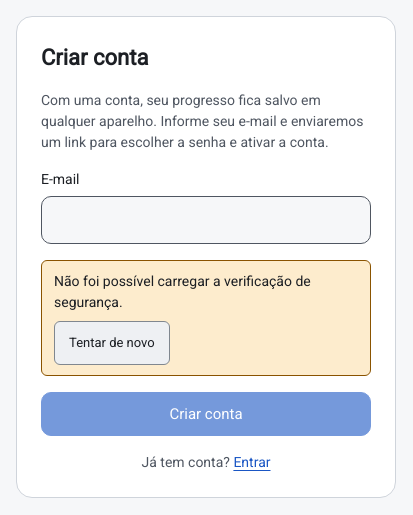
cadastro com captcha (feature 049) › mostra o aviso com "Tentar de novo" se o desafio dá erro, e o envio segue bloqueado
Check: the field labelled "E-mail" is shown, box [41,196,371,244]
Check: the message shows "Não foi possível carregar a verificação de segurança.", box [54,273,311,310]
Click the button "Tentar de novo".
click(112, 343)  # box [54,321,170,365]
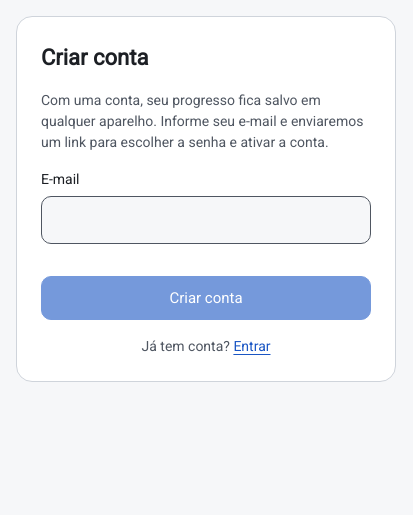
Check: the button "Tentar de novo" is gone
